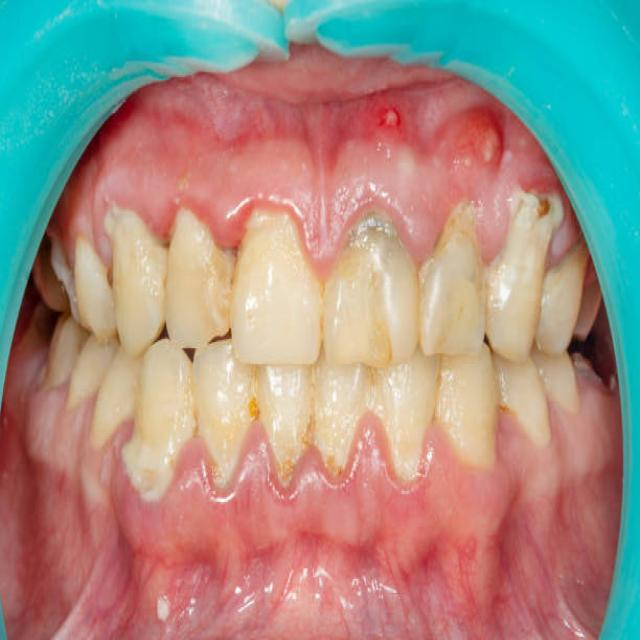caries: (38, 227, 82, 320), (570, 333, 616, 401)
